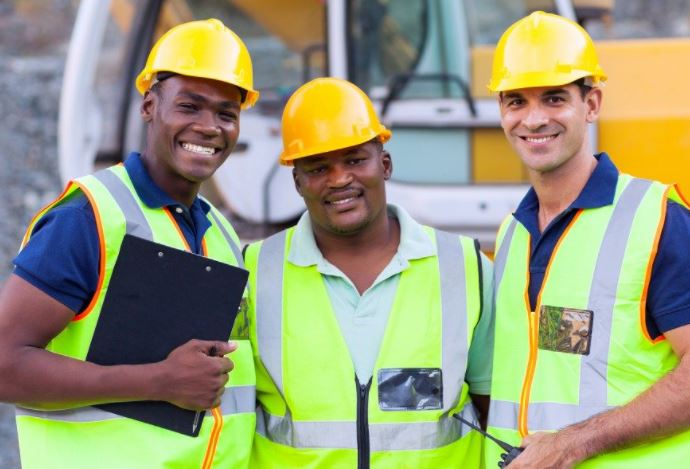Safety Helmet: (129, 11, 266, 204), (484, 7, 615, 196), (276, 71, 402, 252)
